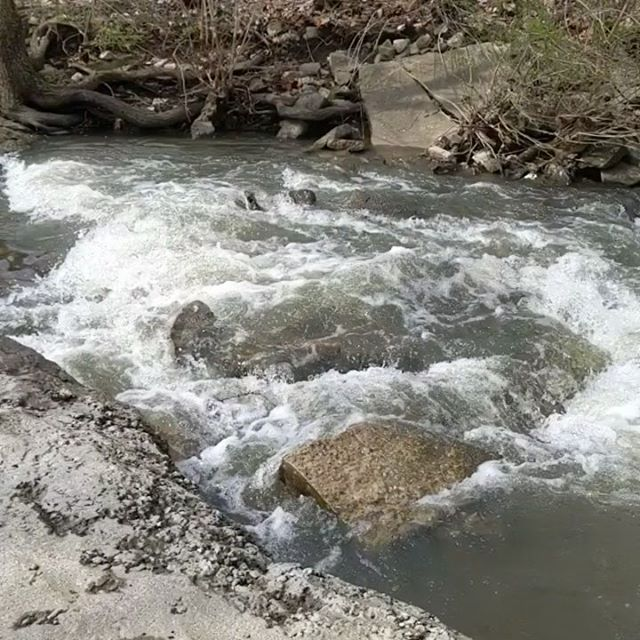river: (45, 141, 640, 615)
vegetation: (65, 1, 640, 140)
